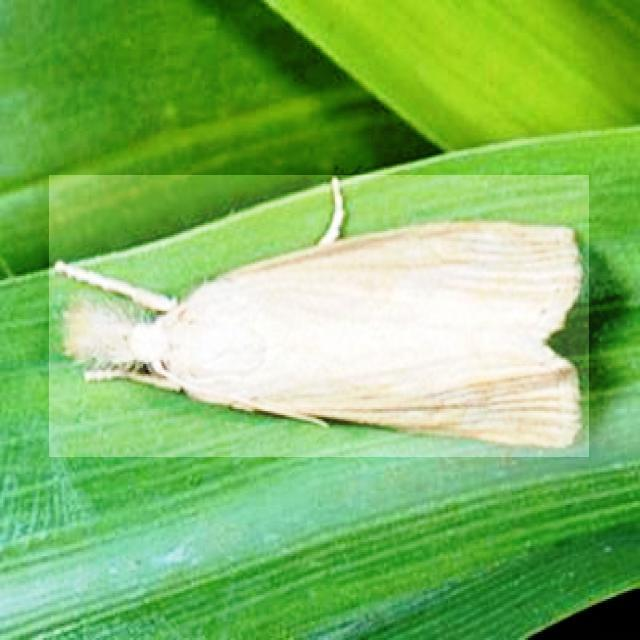stem-borer: (50, 175, 590, 457)
